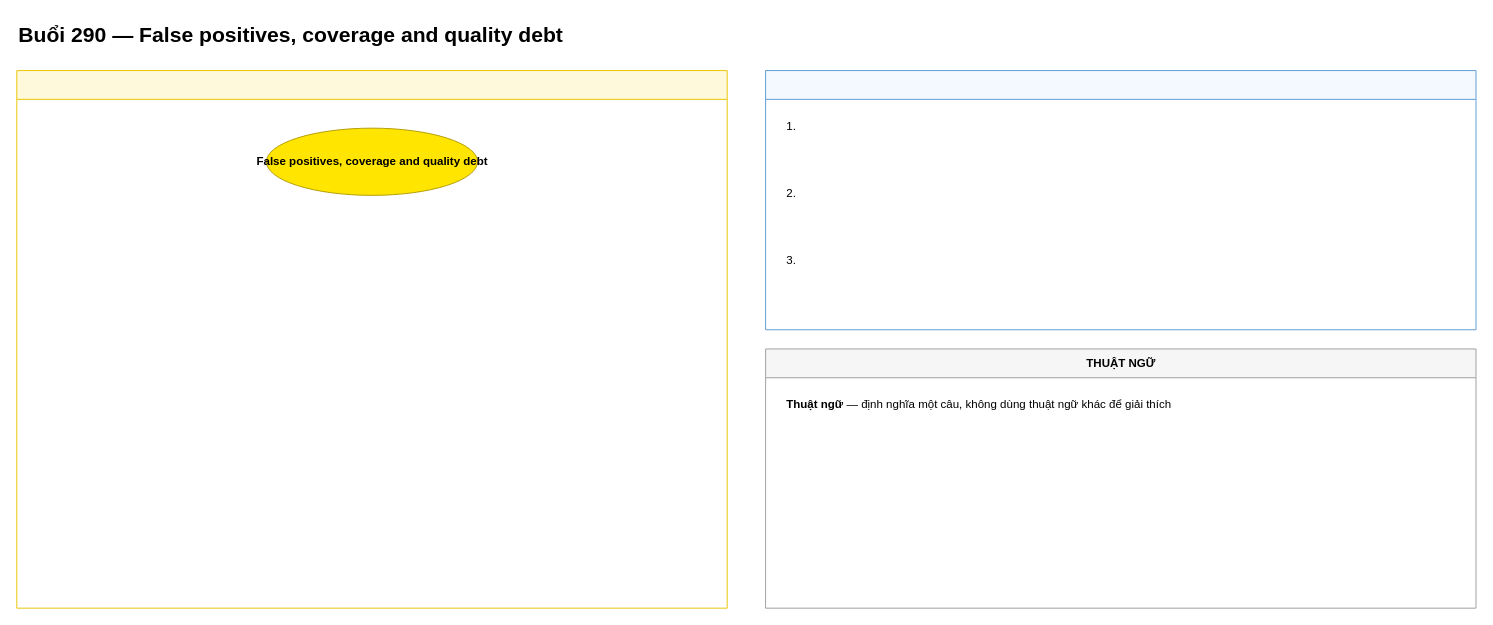
Some shapes in this 1493 by 625 pixel diagram are drawn without their labels. The shapes that lost their labels are listed below. From the top down, each one's box as (x1, y1, x2, y2) in pixels, then its label:
(765, 70, 1476, 330): KEY TAKEAWAY — ba điều phải nhớ
(16, 70, 727, 608): MINDMAP
